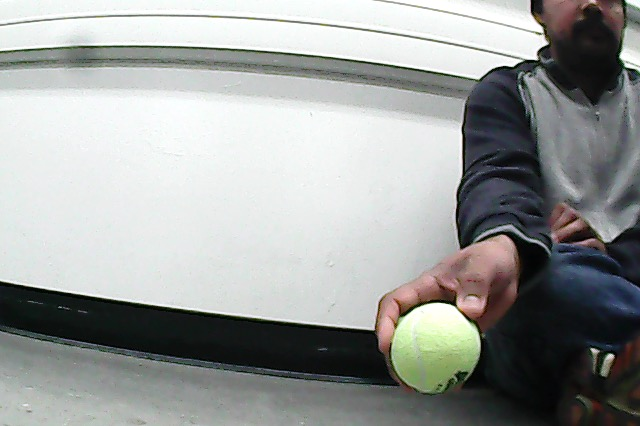ball: (387, 298, 486, 398)
